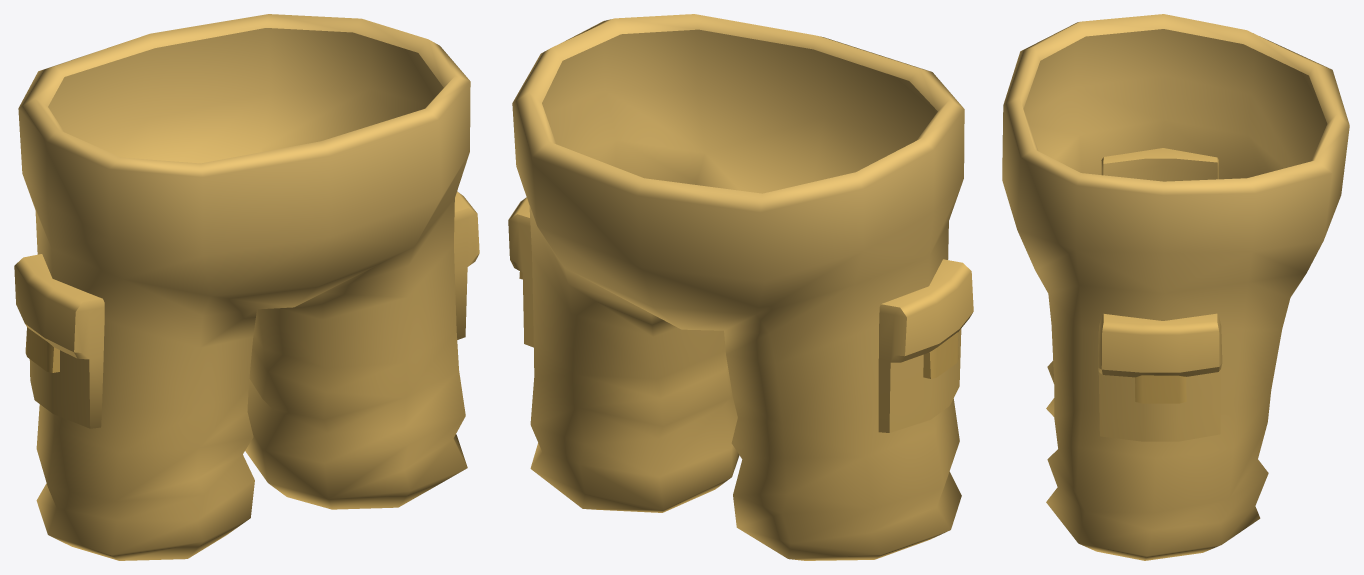
File: Bottom_5.fbx
3 renders of one model, left to right at view 1: azimuth 30°, elevation 25°; view 2: azimuth 150°, elevation 25°; view 3: azimuth 270°, elevation 25°, orthographic. The views are drawn at different scales.
Parts seen in each view (by area): view 1: Bottom_5; view 2: Bottom_5; view 3: Bottom_5.
Boxes of the visible parts, <box> form: Bottom_5: <box>14,14,479,560</box>; Bottom_5: <box>508,14,973,560</box>; Bottom_5: <box>1002,14,1349,560</box>.
Bounding box in the file's own units: 40.66 × 38.42 × 31.34.
